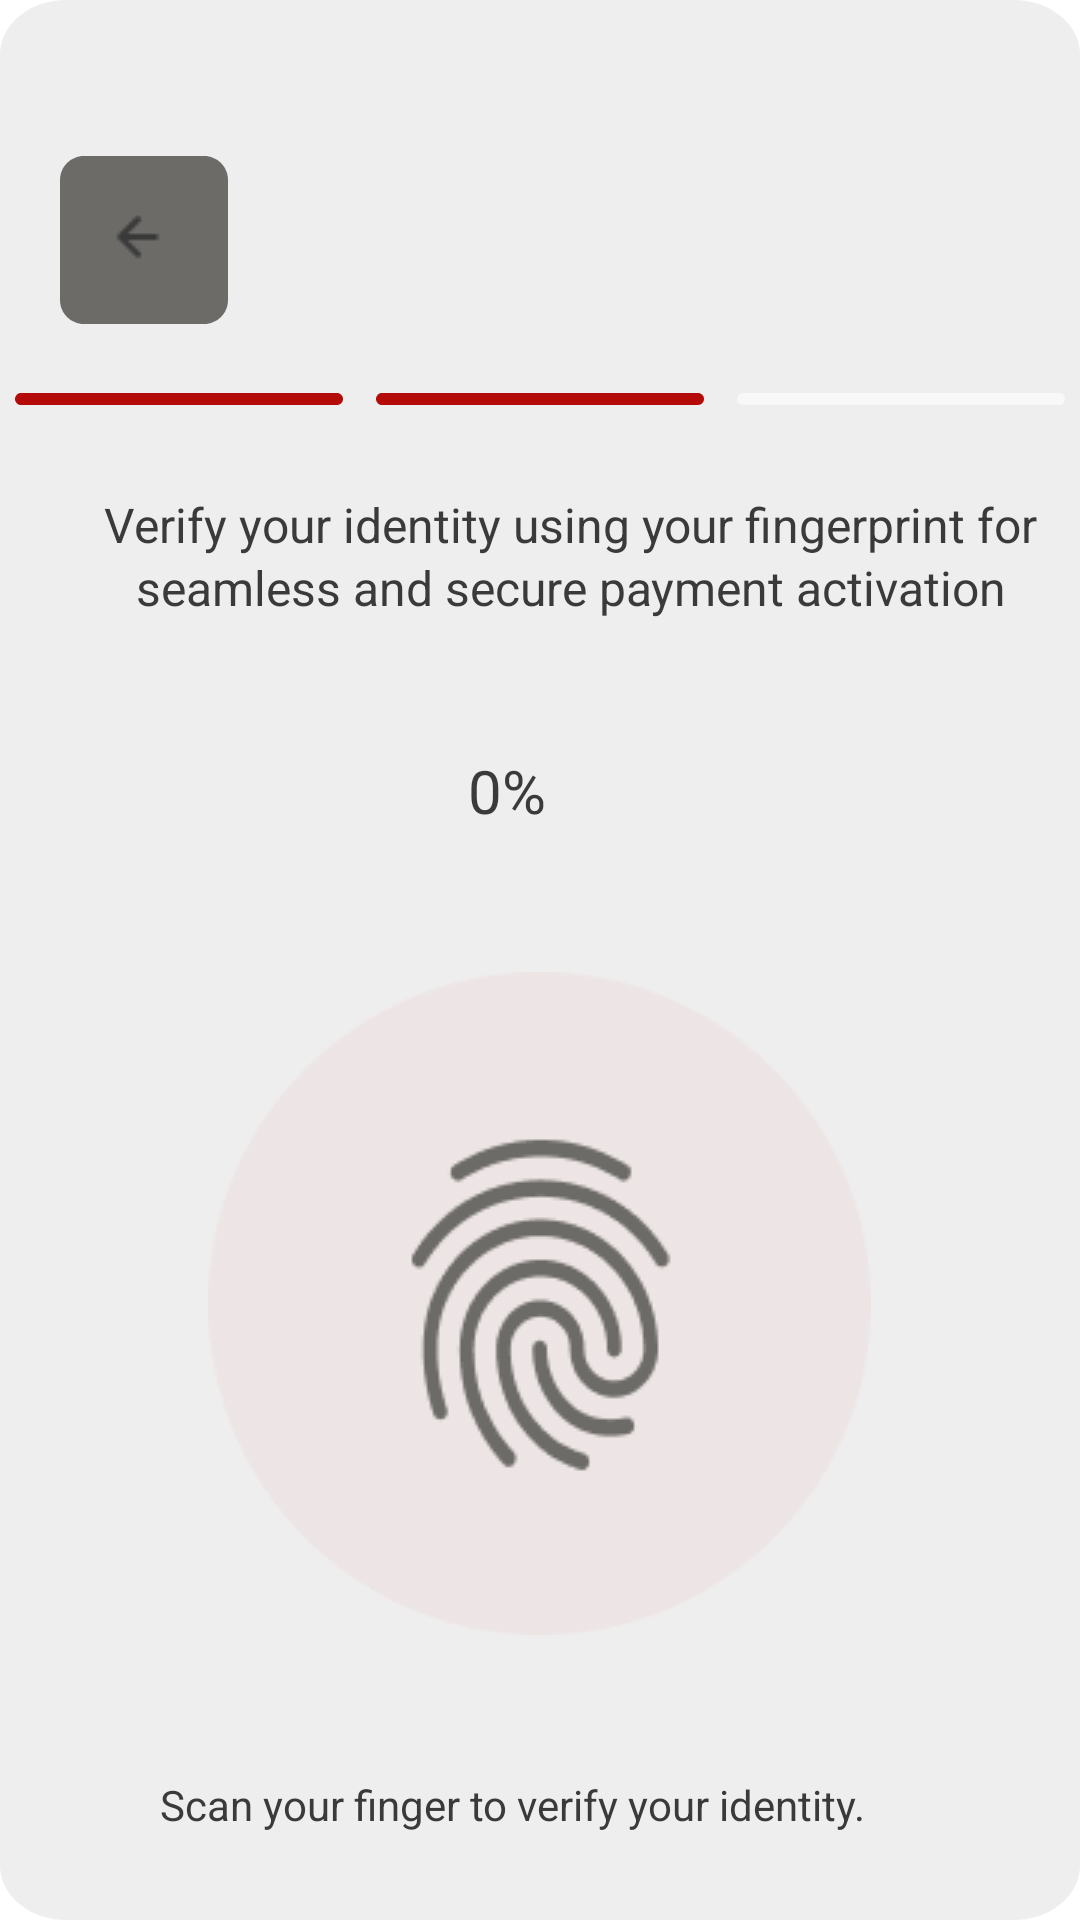

Where to tap for icons on this 1080px×1920px app screen, as (x,y):
Back icon: (138,237)
